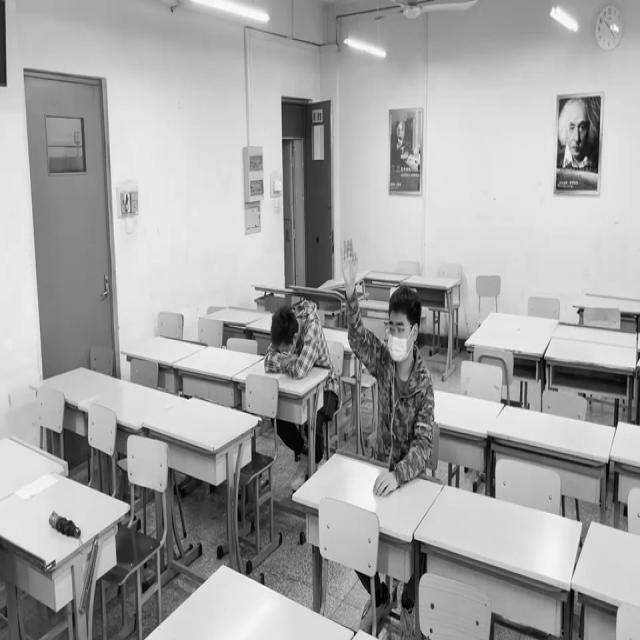sleep: (263, 305, 326, 374)
study: (340, 240, 431, 489)
